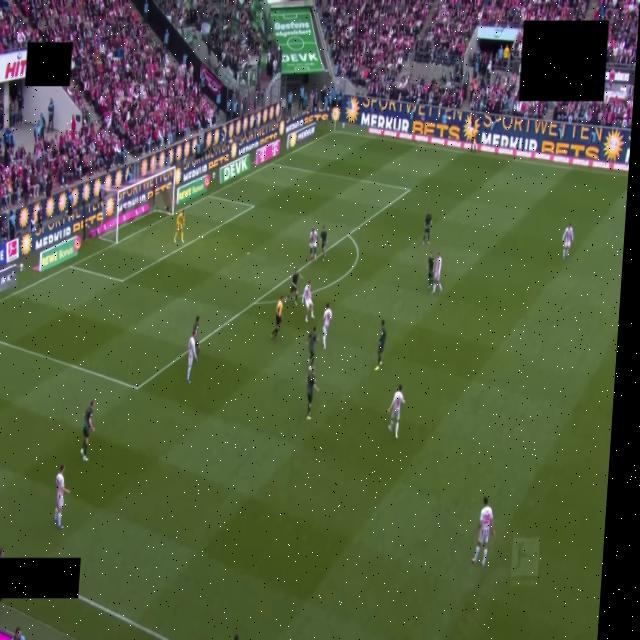player: (472, 497, 495, 567), (52, 464, 72, 530), (388, 385, 404, 438), (81, 400, 94, 462), (306, 367, 318, 420), (375, 320, 386, 371), (302, 280, 314, 322), (187, 336, 197, 383), (286, 271, 300, 304), (307, 327, 317, 370), (322, 303, 331, 349), (432, 253, 442, 293), (563, 223, 574, 259), (174, 210, 185, 243), (423, 209, 432, 245), (320, 226, 327, 261), (310, 228, 317, 261), (193, 316, 199, 354), (428, 252, 434, 287)
referee: (271, 296, 283, 339)
